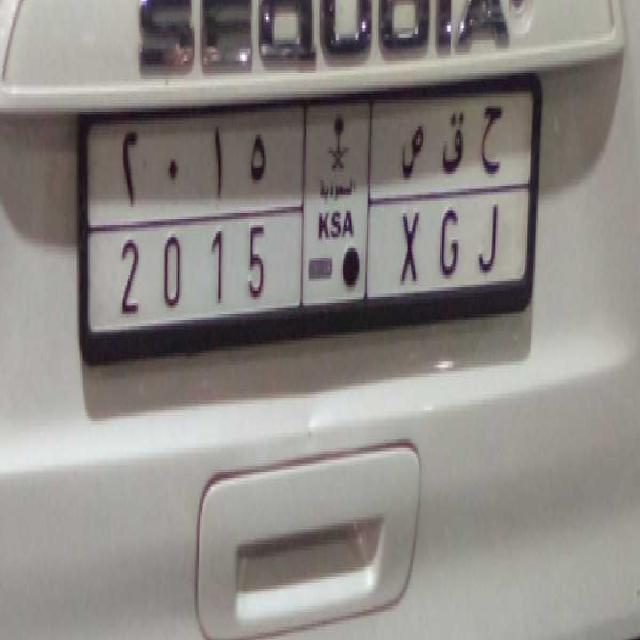license_plate: (106, 201, 514, 316)
